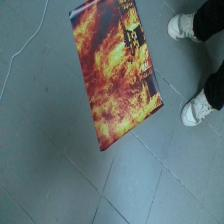fire-poster: (69, 0, 163, 151)
